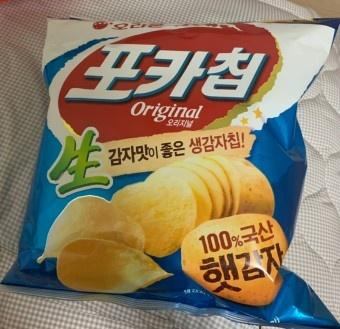snack: (0, 14, 340, 329)
